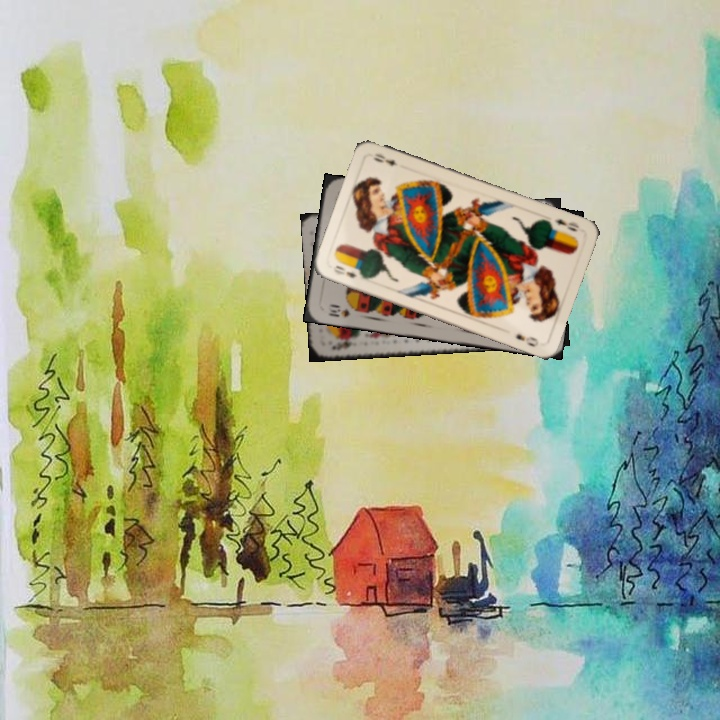EO: (329, 261, 360, 281), (550, 215, 581, 234)
S10: (325, 300, 353, 320)
SK: (328, 335, 354, 353)
